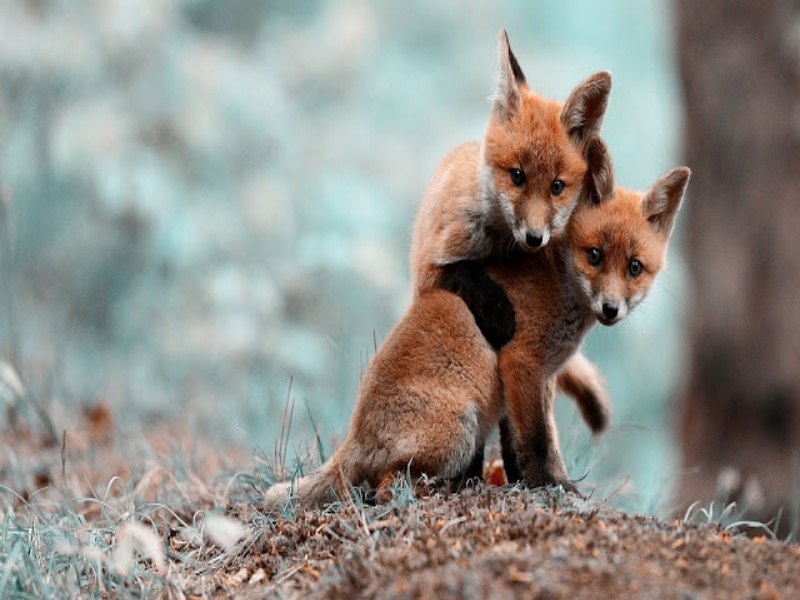fox: (257, 133, 694, 521), (395, 25, 616, 515)
